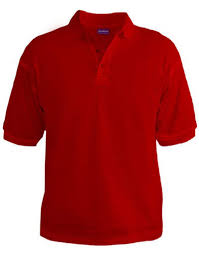S_polo shirt: (3, 9, 199, 242)
